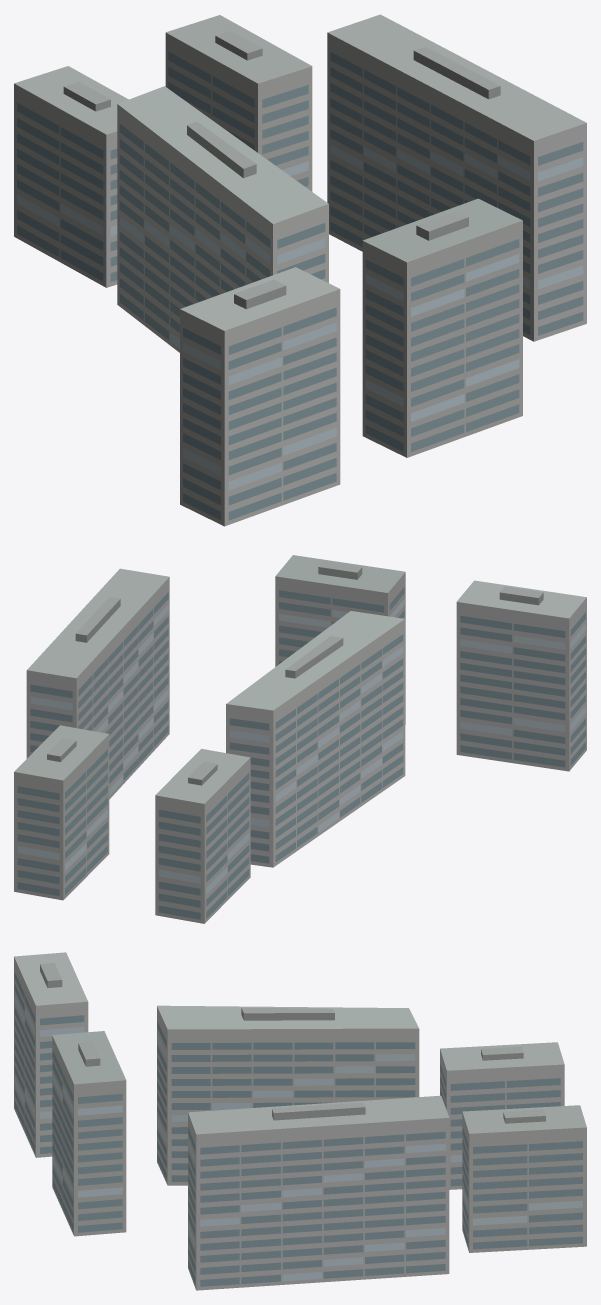
The model's file is apt-a15606001.glb.
3 renders of one model, top to bottom at view 1: azimuth 30°, elevation 25°; view 2: azimuth 150°, elevation 25°; view 3: azimuth 270°, elevation 25°, orthographic. The views are drawn at different scales.
Parts seen in each view (by area): view 1: apt-a15606001; view 2: apt-a15606001; view 3: apt-a15606001.
Boxes of the visible parts, x1,y1,x2,y2 form: apt-a15606001: (14, 14, 586, 526); apt-a15606001: (14, 555, 586, 923); apt-a15606001: (14, 952, 586, 1290).
Bounding box in the file's own units: 92.76 × 38 × 121.
